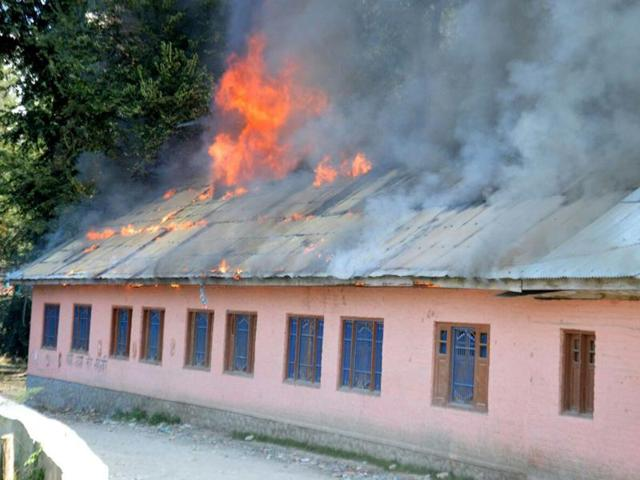fire: (215, 52, 296, 187)
smoke: (332, 13, 636, 188)
